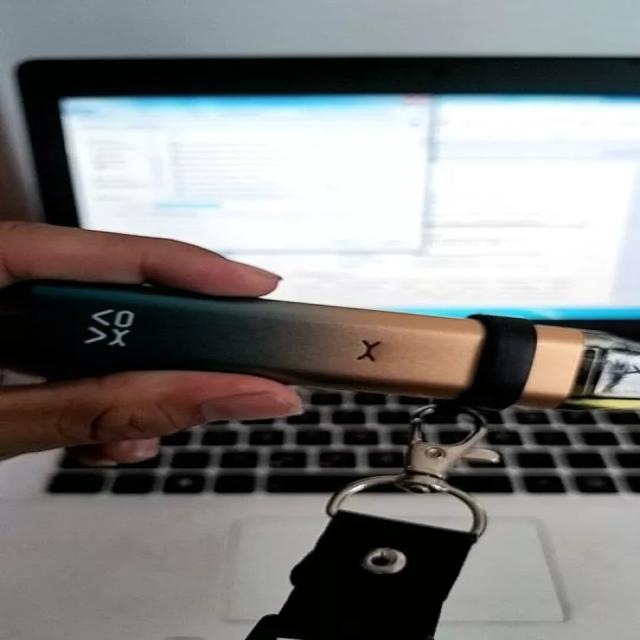Hazard: (0, 276, 640, 416)
